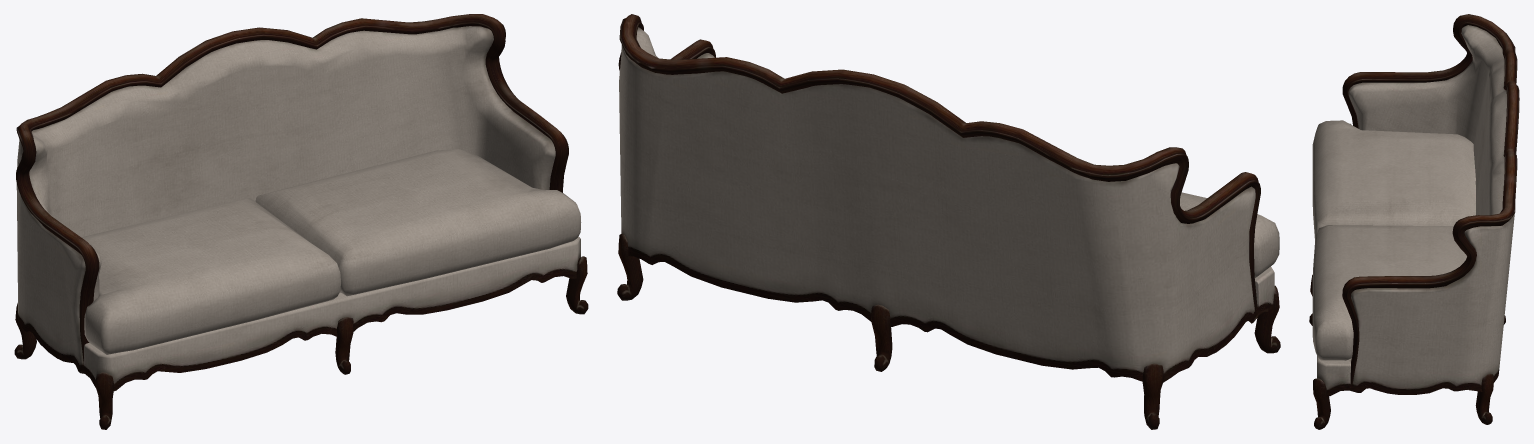
Rendered from Sofa_01.glb.
The picture shows the model from 3 angles, left to right: view 1: azimuth 30°, elevation 25°; view 2: azimuth 150°, elevation 25°; view 3: azimuth 270°, elevation 25°; orthographic projection. The views are drawn at different scales.
Visible parts, largest first — view 1: Sofa_01; view 2: Sofa_01; view 3: Sofa_01.
Part boxes in pixels (bbox=[...]): Sofa_01: bbox=[14, 14, 588, 429]; Sofa_01: bbox=[617, 14, 1280, 429]; Sofa_01: bbox=[1309, 14, 1519, 429].
Size of the model in its own units: 1.57 by 0.7965 by 0.658.
1 material, 1 textured.
